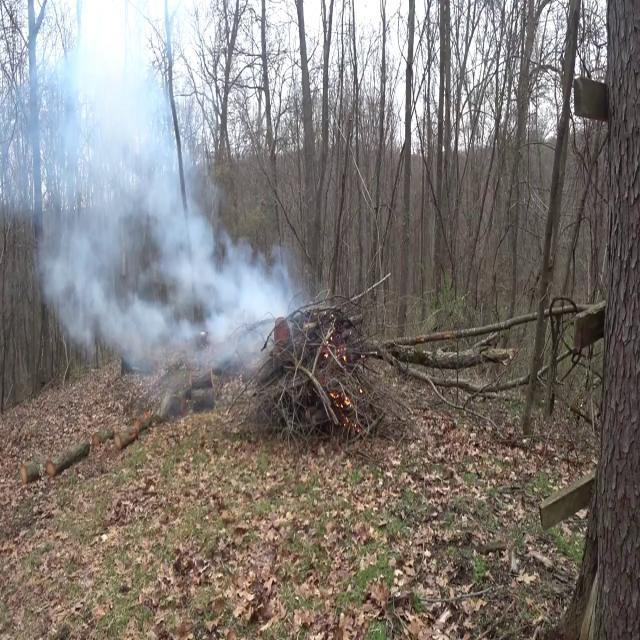Smoke: (7, 24, 304, 393)
